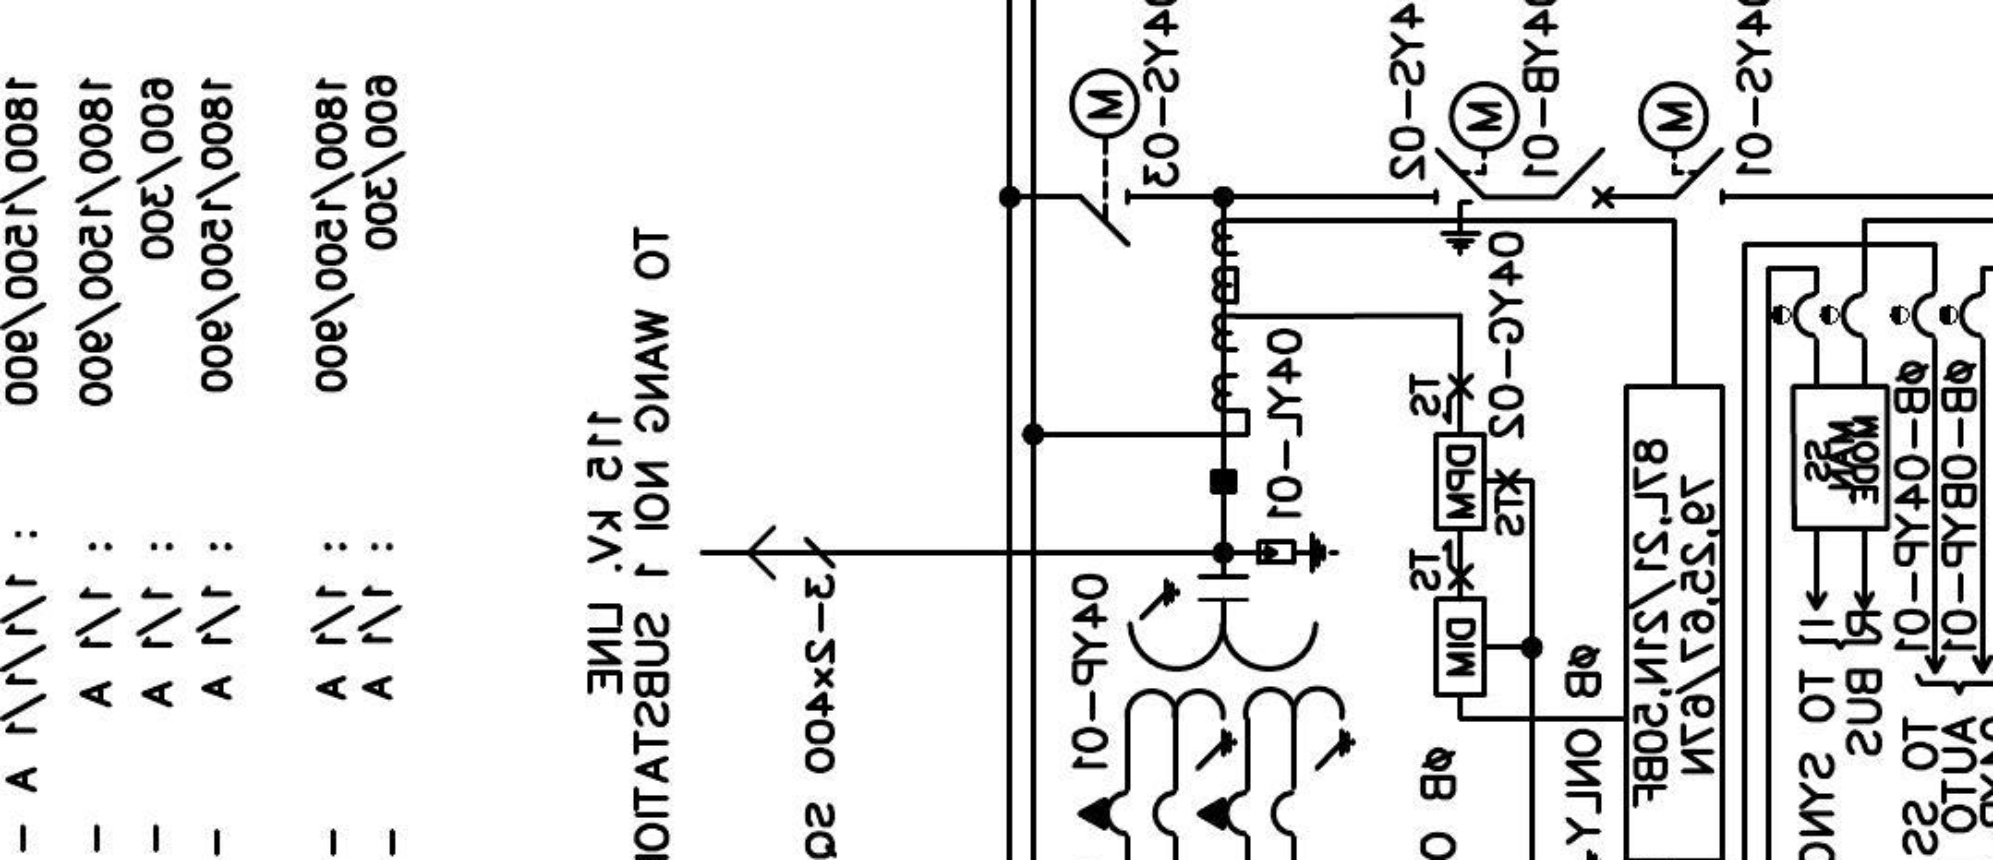115_1way_ds_w_motor: (1067, 67, 1142, 249), (1637, 79, 1726, 206)
115_3ways_ds_w_motor: (1432, 80, 1522, 258)
115_breaker: (1554, 146, 1615, 210)
115_cvt_1p: (1076, 573, 1358, 841)
115_la: (1256, 531, 1341, 575)
DIM: (1433, 596, 1488, 697)
DPM: (1433, 431, 1488, 532)
ss_man_mode: (1790, 383, 1891, 532)
